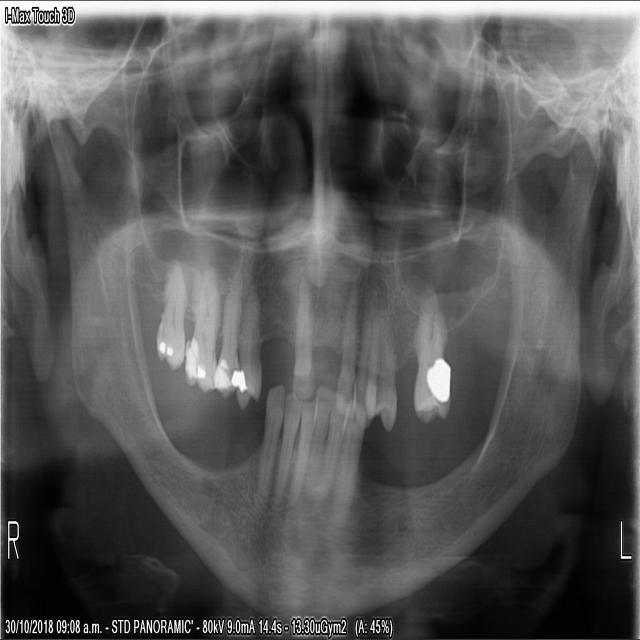LCD: (327, 392, 369, 523)
LCU: (348, 293, 376, 436)
LID: (314, 383, 352, 509), (302, 374, 335, 506)
LIU: (332, 288, 358, 424)
LMU: (408, 271, 454, 425)
LPMU: (362, 289, 399, 433)
RCD: (249, 371, 287, 520)
RID: (284, 390, 319, 515), (270, 381, 303, 513)
RIU: (288, 271, 317, 400)
RMU: (179, 256, 221, 399), (151, 242, 189, 376)
RPMU: (210, 263, 248, 408), (233, 275, 263, 414)
